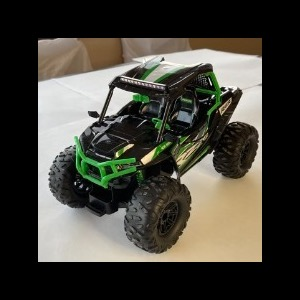polaris: (47, 57, 260, 254)
